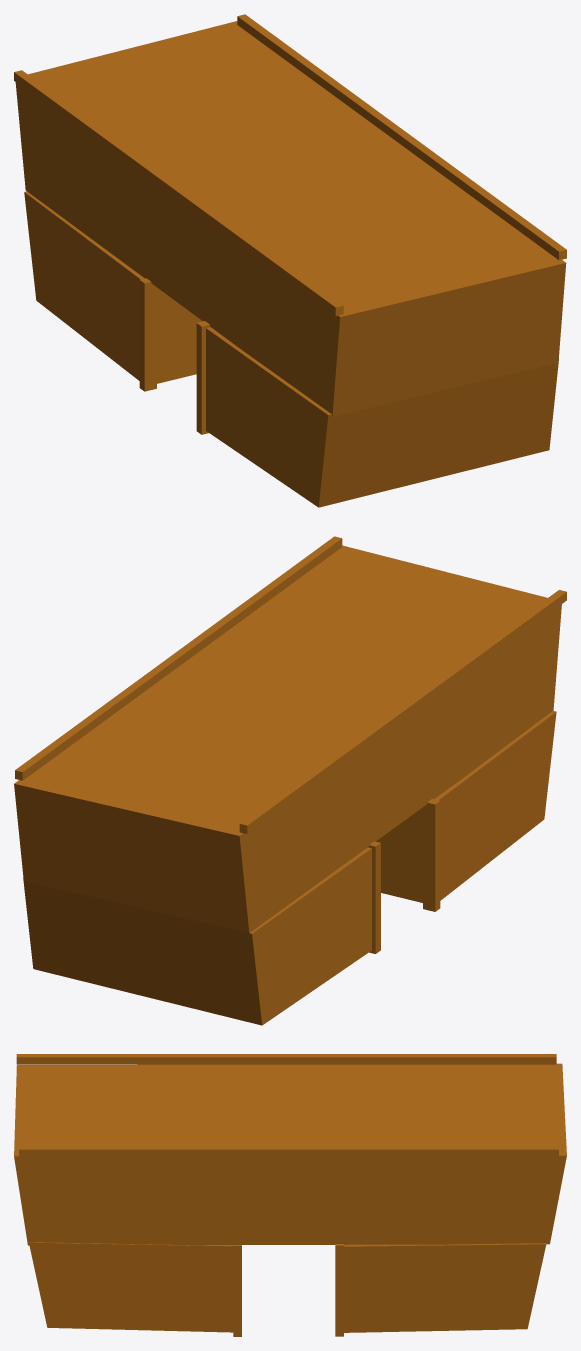
File: puente.fbx
3 views of the same model, one above another, from view 1: azimuth 30°, elevation 25°; view 2: azimuth 150°, elevation 25°; view 3: azimuth 270°, elevation 25° (orthographic). The views are drawn at different scales.
Parts seen in each view (by area): view 1: Cube.002, Cube, Cube.001, Cube.008, Cube.007, Cube.006, Cube.005; view 2: Cube.002, Cube.001, Cube, Cube.007, Cube.008, Cube.005, Cube.006; view 3: Cube.002, Cube, Cube.001, Cube.008, Cube.007, Cube.004, Cube.003.
Boxes of the visible parts, x1=… form: Cube.002: x1=15, y1=21, x2=566, y2=416; Cube: x1=206, y1=327, x2=558, y2=507; Cube.001: x1=24, y1=191, x2=202, y2=383; Cube.008: x1=14, y1=70, x2=343, y2=315; Cube.007: x1=237, y1=14, x2=566, y2=260; Cube.006: x1=139, y1=278, x2=156, y2=391; Cube.005: x1=196, y1=321, x2=209, y2=434; Cube.002: x1=14, y1=545, x2=561, y2=932; Cube.001: x1=23, y1=847, x2=371, y2=1025; Cube: x1=376, y1=710, x2=556, y2=902; Cube.007: x1=15, y1=536, x2=342, y2=780; Cube.008: x1=239, y1=590, x2=566, y2=834; Cube.005: x1=423, y1=799, x2=440, y2=911; Cube.006: x1=368, y1=841, x2=380, y2=953; Cube.002: x1=14, y1=1063, x2=566, y2=1245; Cube: x1=29, y1=1242, x2=233, y2=1332; Cube.001: x1=344, y1=1243, x2=546, y2=1332; Cube.008: x1=16, y1=1054, x2=556, y2=1064; Cube.007: x1=19, y1=1146, x2=558, y2=1156; Cube.004: x1=335, y1=1244, x2=343, y2=1336; Cube.003: x1=233, y1=1245, x2=241, y2=1336.
Bounding box in the file's own units: 206 × 186 × 498.
